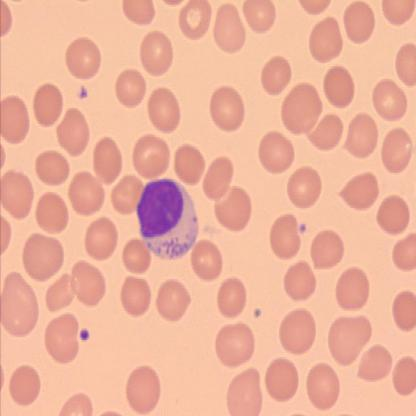Atypical lymphocyte: (135, 176, 202, 262)
